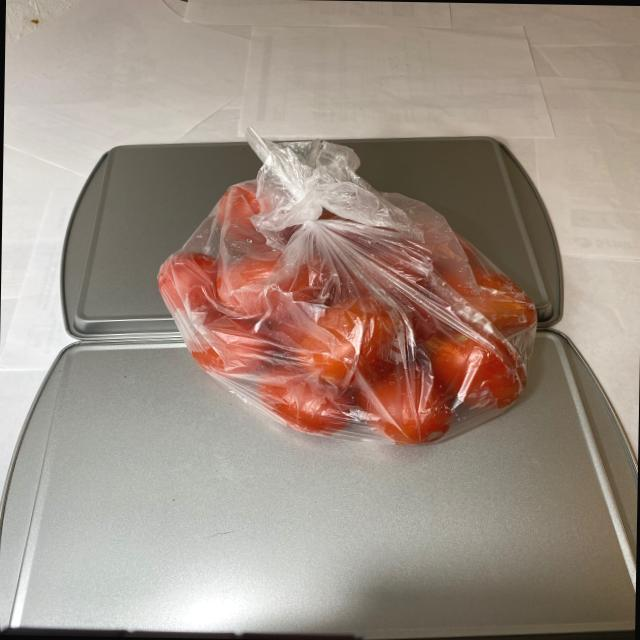tomato: (158, 183, 538, 458)
